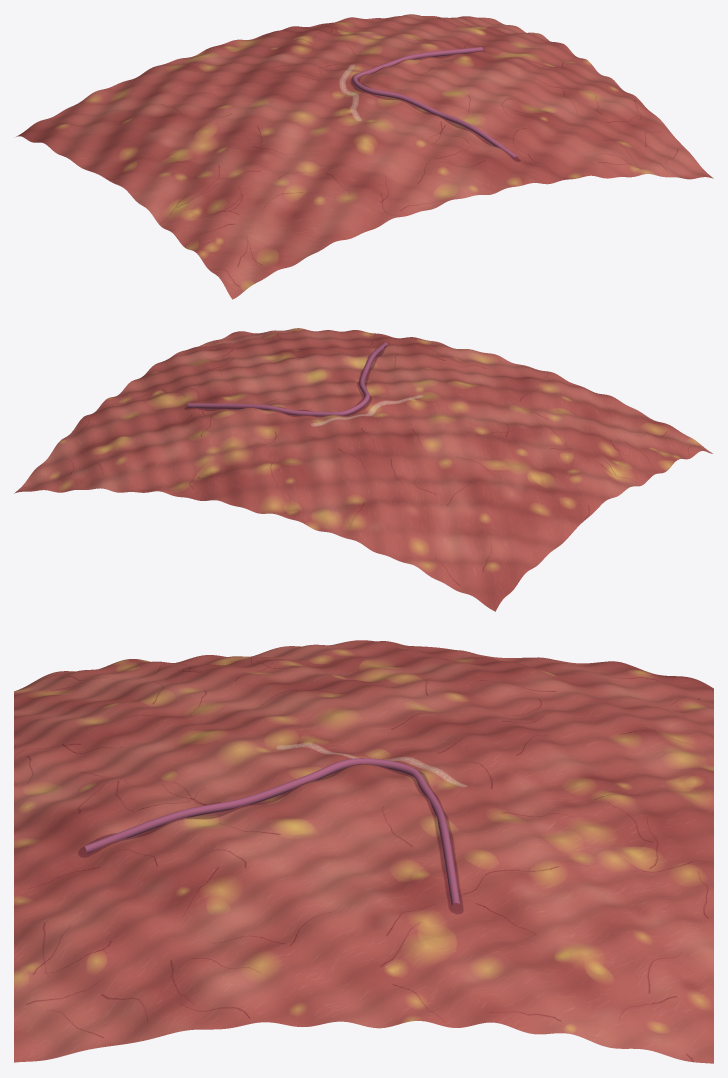
The model's file is dissection-template.glb.
The picture shows the model from 3 angles, top to bottom: view 1: azimuth 30°, elevation 25°; view 2: azimuth 150°, elevation 25°; view 3: azimuth 270°, elevation 25°; orthographic projection. The views are drawn at different scales.
Parts seen in each view (by area): view 1: Tissue, VesselTube; view 2: Tissue, VesselTube; view 3: Tissue, VesselTube.
Part boxes in pixels (x1,y1,x2,y2): Tissue: (16, 14, 713, 299); VesselTube: (352, 47, 516, 158); Tissue: (14, 328, 712, 611); VesselTube: (187, 342, 387, 416); Tissue: (14, 640, 713, 1063); VesselTube: (84, 758, 460, 906).
Bounding box in the file's own units: 0.56 × 0.084 × 0.44.
2 materials, 1 textured.
